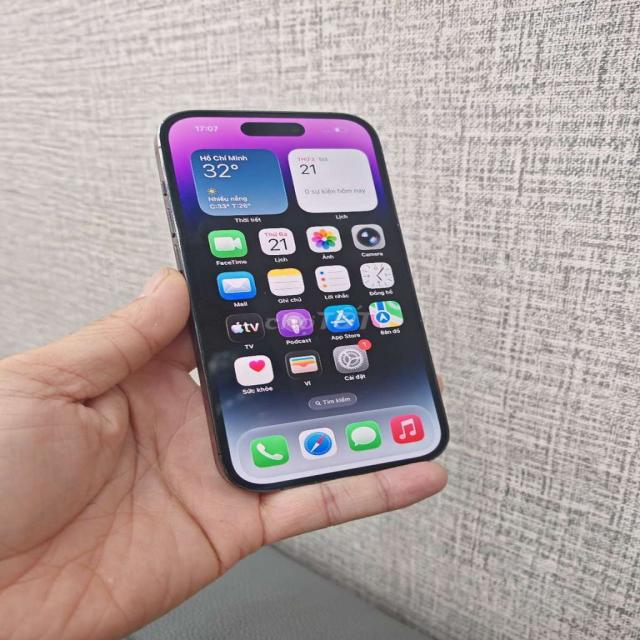gen_14: (158, 100, 460, 494)
